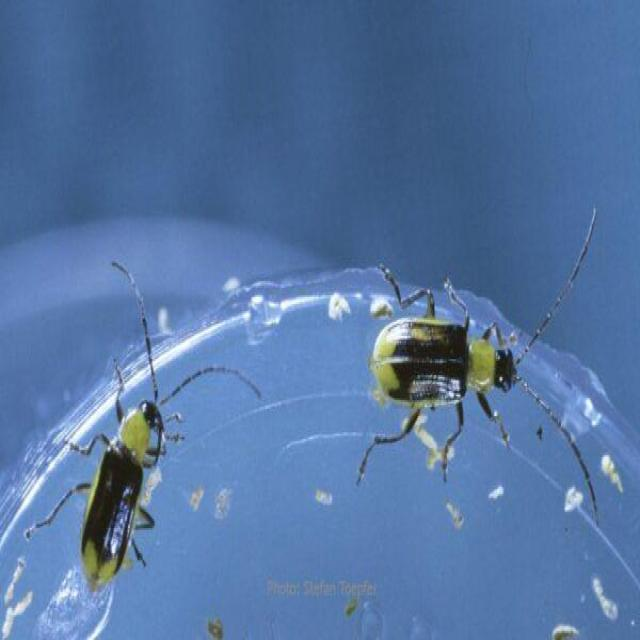trips: (350, 199, 600, 541), (30, 260, 254, 606)
